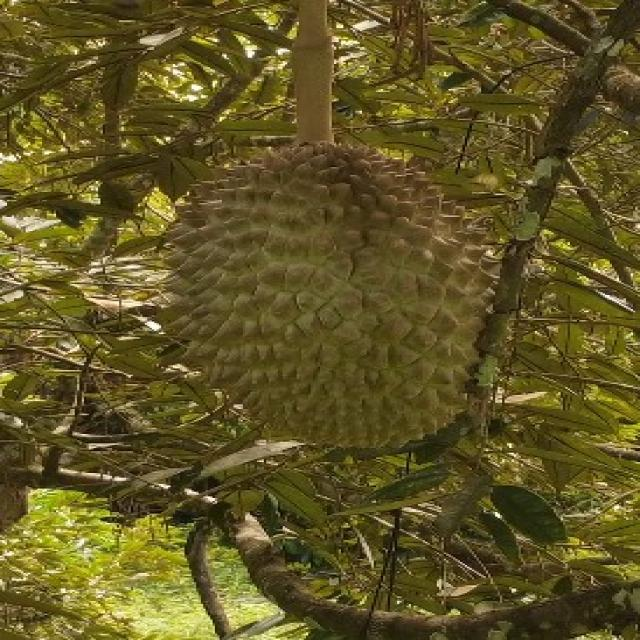immature: (161, 140, 509, 455)
